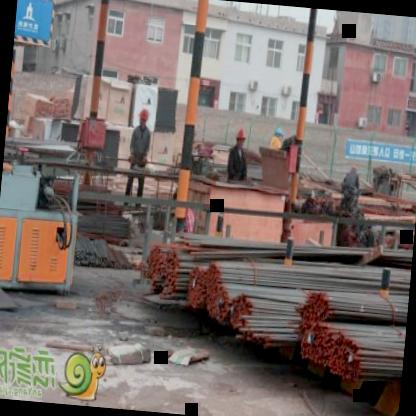helmet: (133, 105, 154, 131), (232, 126, 251, 150), (272, 122, 286, 141)
